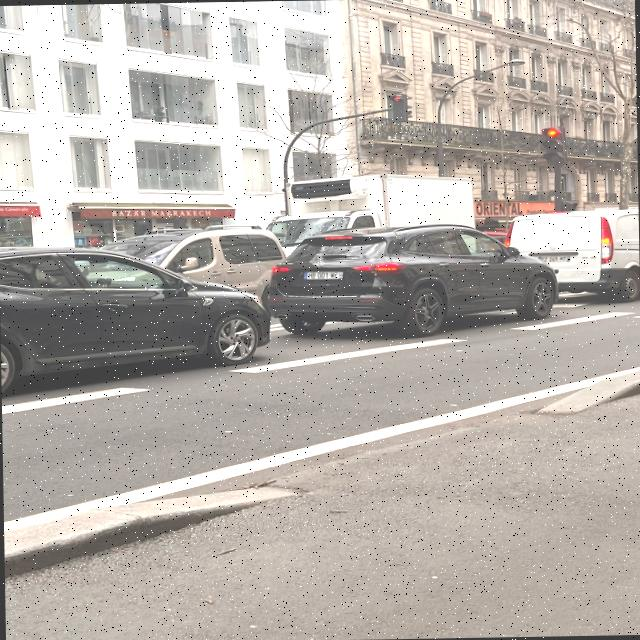Autre: (305, 267, 347, 282), (530, 250, 576, 262)
